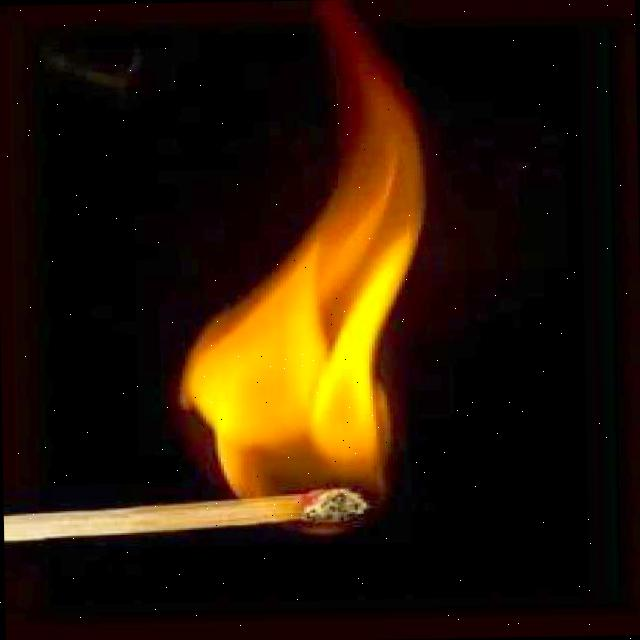fire: (188, 1, 440, 534)
